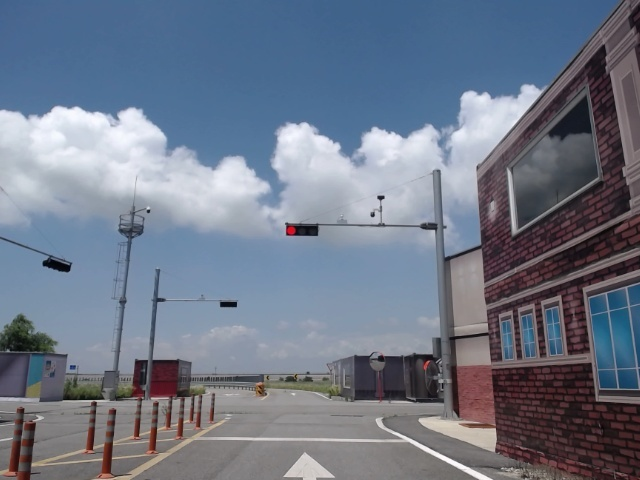red_3: (286, 224, 320, 237)
